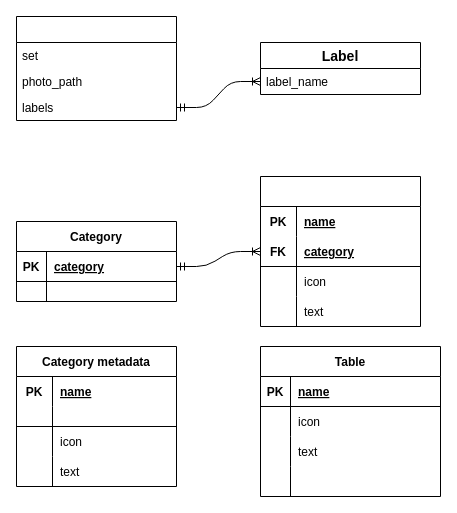
The diagram is 457 pixels wide and 513 high, and some of its shapes have lost their labels. The box of each missing label's shape, as (x1, y1, x2, y2) in pixels:
Dataset photo: (16, 16, 176, 120)
Symbol: (260, 176, 420, 326)
